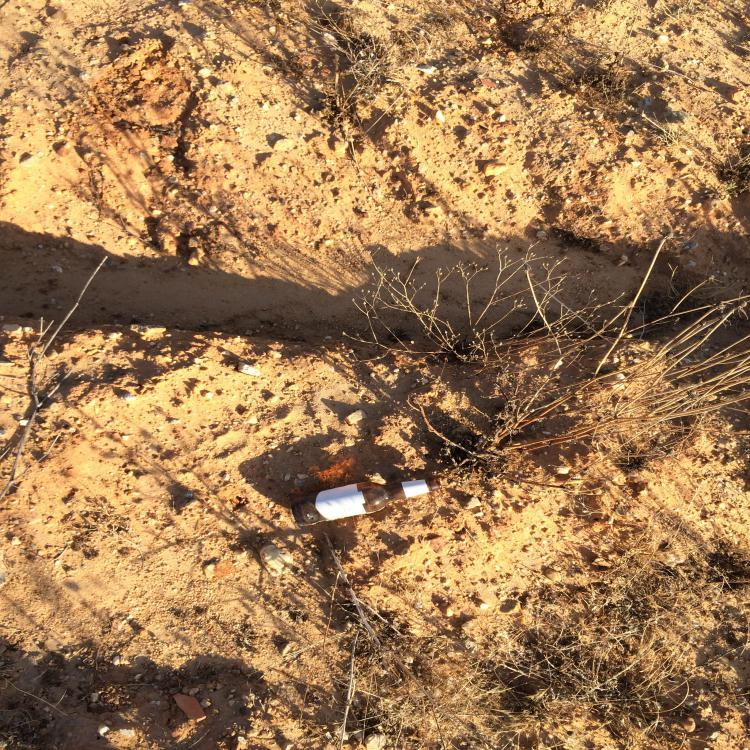Glass bottle: (290, 478, 442, 525)
